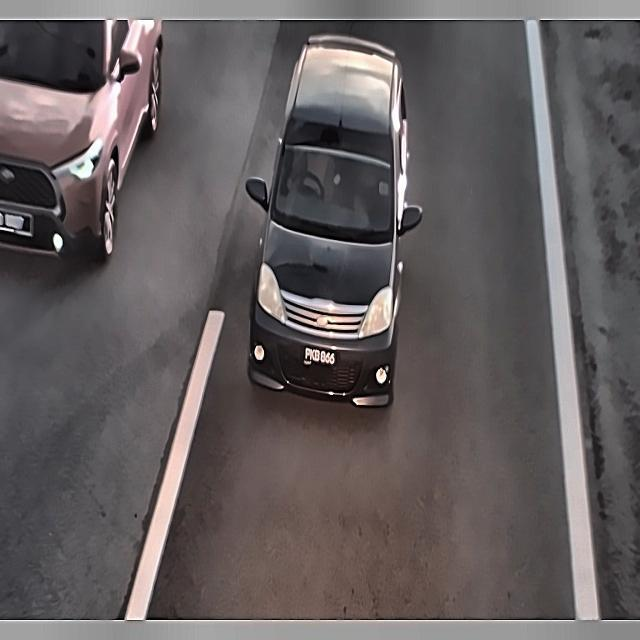car: (0, 204, 36, 246), (302, 338, 341, 374)
